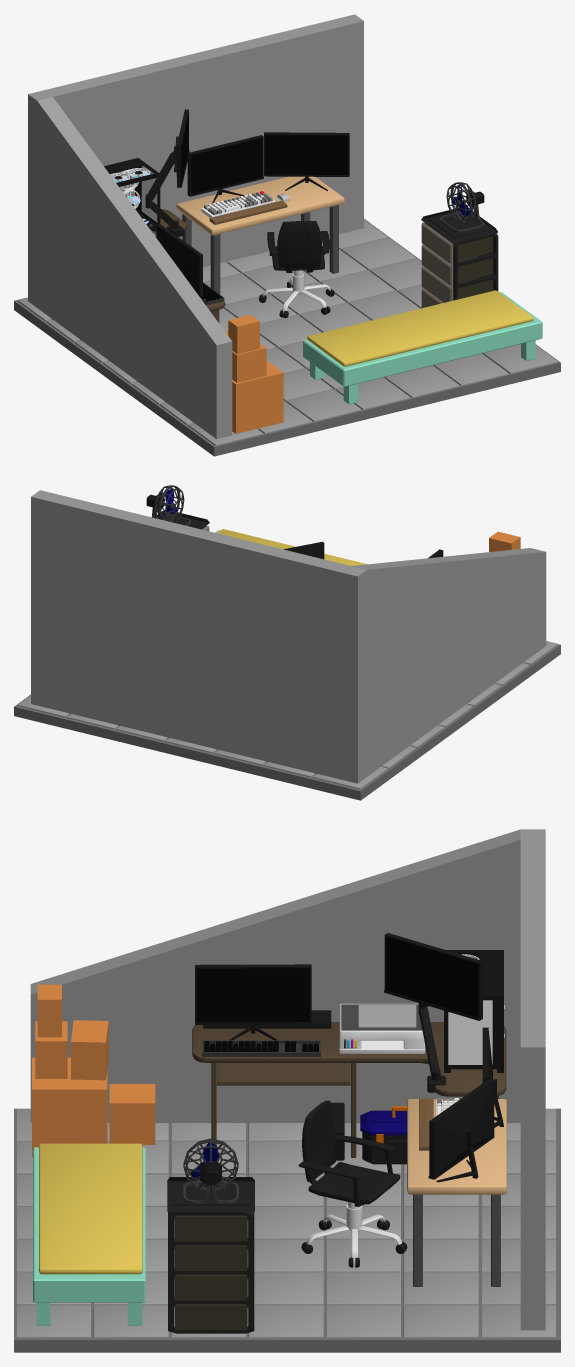
The model's file is home_pc_test_2.glb.
3 renders of one model, top to bottom at view 1: azimuth 30°, elevation 25°; view 2: azimuth 150°, elevation 25°; view 3: azimuth 270°, elevation 25°, orthographic. The views are drawn at different scales.
Parts seen in each view (by area): view 1: Cube.048, Cube.049, Cube.050, bed, platform, Cube.072, monitor_2, table, monitor_1, Cube.074, Cube.059, Cube.054 (+11 smaller); view 2: Cube.048, Cube.049, platform, Cube.050, bed, Sphere, Cube.077, monitor_2.001; view 3: Cube.050, Cube.049, bed, Cube.048, platform, Cube.072, monitor_3, monitor_2.001, Cube.051, Cube.074, Cube.059, table (+19 smaller).
Part boxes in pixels (<box>): Cube.048: <box>28,14,363,307</box>; Cube.049: <box>37,97,232,439</box>; Cube.050: <box>18,219,558,445</box>; bed: <box>303,290,542,404</box>; platform: <box>14,218,560,456</box>; Cube.072: <box>421,222,493,307</box>; monitor_2: <box>264,132,349,190</box>; table: <box>176,176,344,235</box>; monitor_1: <box>187,135,263,204</box>; Cube.074: <box>232,360,283,433</box>; Cube.059: <box>267,221,329,270</box>; Cube.054: <box>182,205,338,294</box>; Cube.048: <box>31,490,366,783</box>; Cube.049: <box>352,548,546,776</box>; platform: <box>14,644,560,800</box>; Cube.050: <box>17,641,557,789</box>; bed: <box>215,529,367,565</box>; Sphere: <box>154,485,184,522</box>; Cube.077: <box>489,531,520,551</box>; monitor_2.001: <box>283,541,324,559</box>; Cube.050: <box>16,1108,556,1338</box>; Cube.049: <box>30,829,520,1124</box>; bed: <box>33,1143,145,1325</box>; Cube.048: <box>520,829,545,1330</box>; platform: <box>14,1108,560,1352</box>; Cube.072: <box>174,1215,248,1330</box>; monitor_3: <box>195,964,311,1040</box>; monitor_2.001: <box>384,933,482,1020</box>; Cube.051: <box>192,1022,506,1096</box>; Cube.074: <box>32,1057,107,1157</box>; Cube.059: <box>298,1100,400,1204</box>; table: <box>407,1099,506,1194</box>.
Bounding box in the file's own units: 14.54 × 8.73 × 14.54.
